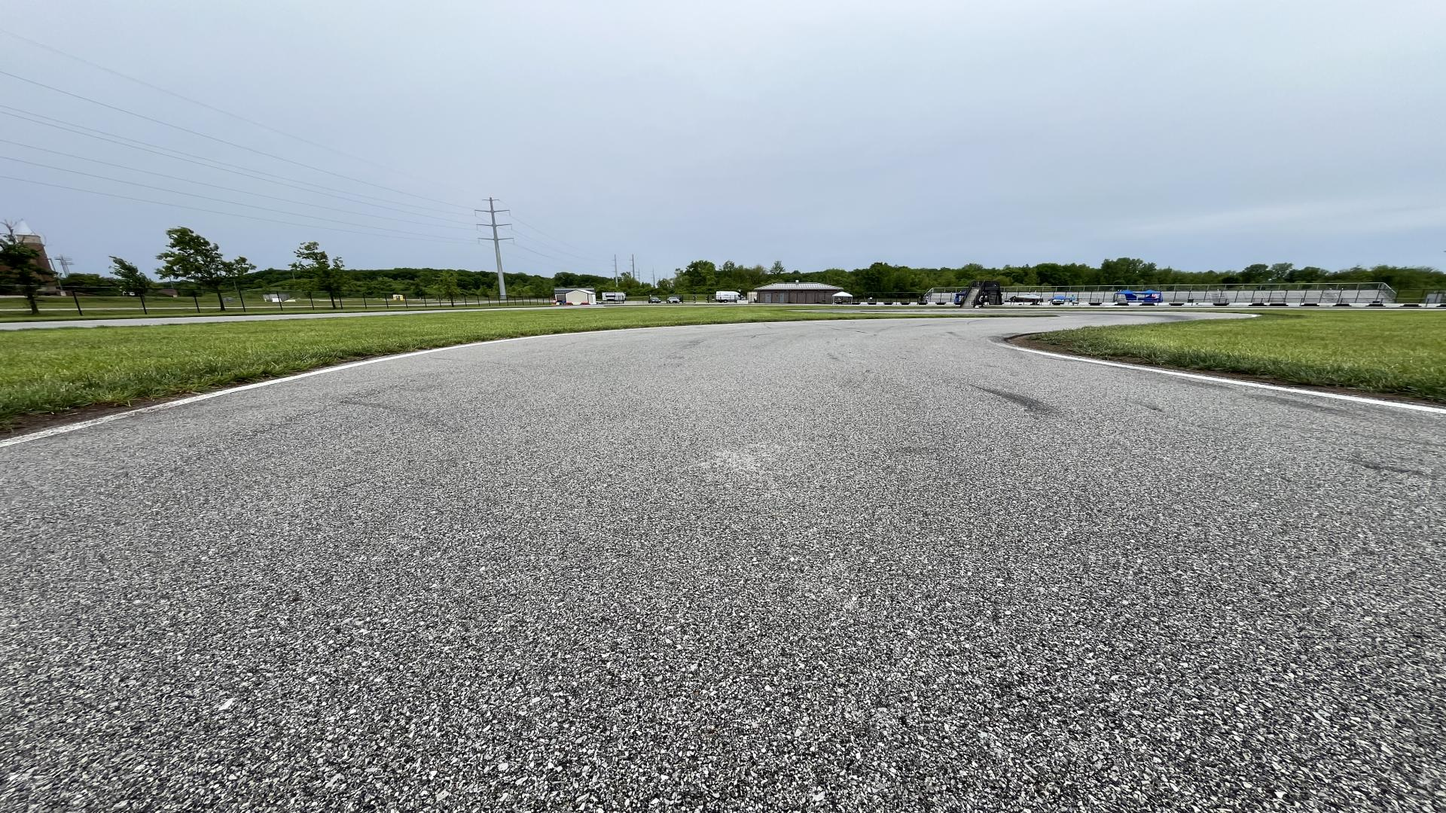white-line: (0, 323, 746, 448), (987, 323, 1445, 416), (744, 316, 1061, 324)
